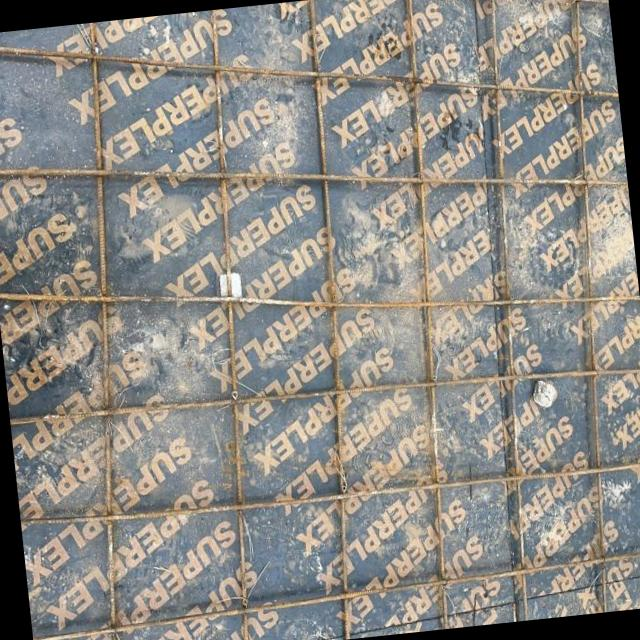ribbed bar: (0, 0, 619, 168), (0, 222, 640, 376), (0, 100, 628, 254), (43, 23, 163, 640), (174, 10, 283, 640), (277, 0, 384, 638), (455, 0, 561, 619), (533, 0, 640, 611), (375, 0, 479, 627), (30, 544, 640, 640), (9, 350, 640, 439), (19, 449, 640, 536), (458, 0, 608, 20)
